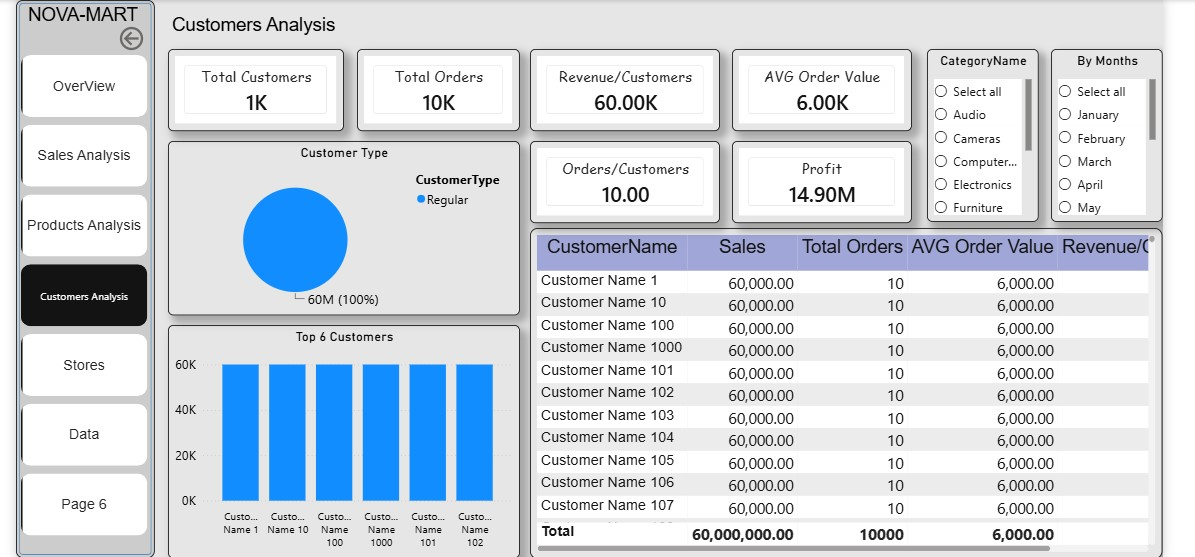

This screenshot's page, from the dashboard's own definition file:
{"tool":"powerbi","page":{"name":"Customers Analysis","canvas":[1480,720],"ordinal":3},"visuals":[{"type":"cardVisual","fields":{"Data":["_Measures.Total Customers"]},"box":[196.5,63.8,226.8,105.8],"z":0},{"type":"shape","box":[0,0,179,720],"z":1},{"type":"pageNavigator","box":[6.7,70.6,163,623.3],"z":2},{"type":"textbox","box":[10.1,0,169.7,50.4],"z":3},{"type":"cardVisual","title":"Orders","fields":{"Data":["_Measures.Total Orders"]},"box":[440.1,63.8,210,105.8],"z":4},{"type":"cardVisual","fields":{"Data":["_Measures.Average Order Value"]},"box":[924,63.8,231.8,105.8],"z":5},{"type":"textbox","box":[196.5,13.4,241.9,50.4],"z":6},{"type":"cardVisual","fields":{"Data":["_Measures.Revenue/Customers"]},"box":[663.6,63.8,245.3,105.8],"z":7},{"type":"pieChart","title":"Customer Type","fields":{"Category":["Dim Customer.CustomerType"],"Y":["_Measures.Sales"]},"box":[196.5,181.4,453.6,225.1],"z":8},{"type":"columnChart","title":"Top 6 Customers","fields":{"Y":["_Measures.Sales"],"Category":["Dim Customer.CustomerName"]},"box":[196.5,420,453.6,300.7],"z":9},{"type":"pivotTable","fields":{"Rows":["Dim Customer.CustomerName"],"Values":["_Measures.Sales","_Measures.Total Orders","_Measures.AVG Order Value","_Measures.Revenue/Customers"]},"box":[663.6,294,816.4,426.7],"z":10},{"type":"cardVisual","fields":{"Data":["_Measures.Profit"]},"box":[924,181.4,231.8,105.8],"z":11},{"type":"cardVisual","fields":{"Data":["_Measures.Orders/Customers"]},"box":[663.6,181.4,245.3,105.8],"z":12},{"type":"listSlicer","fields":{"Values":["Dim Product.CategoryName"]},"box":[1175.9,63.8,144.5,223.4],"z":13},{"type":"listSlicer","title":"By Months ","fields":{"Values":["Dim Date.MonthName"]},"box":[1335.5,63.8,144.5,223.4],"z":14},{"type":"actionButton","box":[129.4,30.2,100,40],"z":15}]}

Visuals, with their boxes on the page's 1480x720 design canvas (x1, y1, x2, y2). These are canvas units, not pixel positions in the 1195x557 screenshot, which may show the page scaled, cropped or inside an application window:
cardVisual - _Measures.Total Customers: l=196, t=64, r=423, b=170
shape: l=0, t=0, r=179, b=720
pageNavigator: l=7, t=71, r=170, b=694
textbox: l=10, t=0, r=180, b=50
"Orders" cardVisual: l=440, t=64, r=650, b=170
cardVisual - _Measures.Average Order Value: l=924, t=64, r=1156, b=170
textbox: l=196, t=13, r=438, b=64
cardVisual - _Measures.Revenue/Customers: l=664, t=64, r=909, b=170
"Customer Type" pieChart: l=196, t=181, r=650, b=406
"Top 6 Customers" columnChart: l=196, t=420, r=650, b=721
pivotTable - Dim Customer.CustomerName x _Measures.Sales: l=664, t=294, r=1480, b=721
cardVisual - _Measures.Profit: l=924, t=181, r=1156, b=287
cardVisual - _Measures.Orders/Customers: l=664, t=181, r=909, b=287
listSlicer - Dim Product.CategoryName: l=1176, t=64, r=1320, b=287
"By Months " listSlicer: l=1336, t=64, r=1480, b=287
actionButton: l=129, t=30, r=229, b=70
